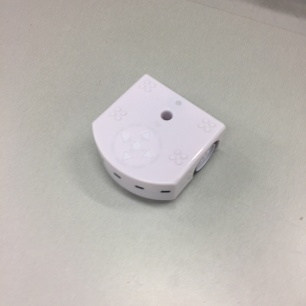thymio: (81, 72, 234, 205)
